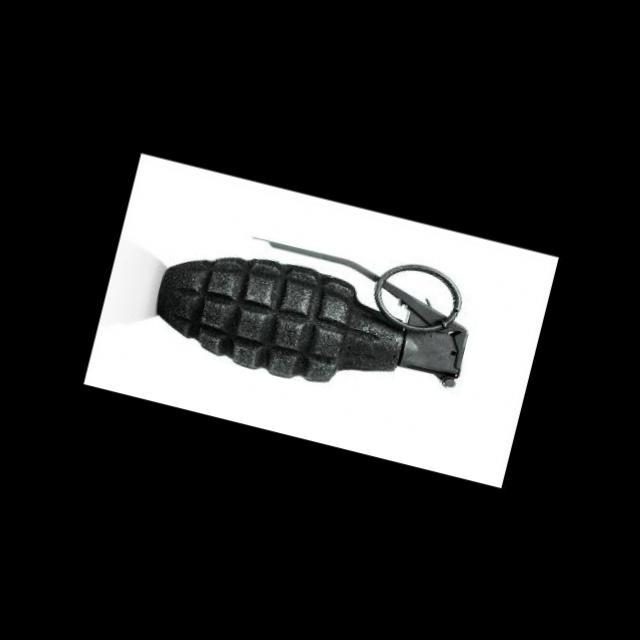grenade: (132, 200, 508, 426)
